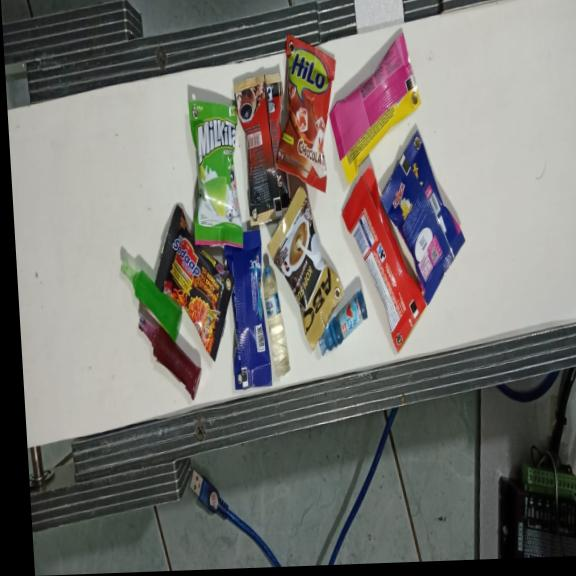Plastik: (375, 126, 468, 310), (339, 165, 428, 356), (324, 35, 425, 187), (150, 203, 238, 364), (264, 187, 346, 352), (267, 32, 343, 195), (232, 74, 294, 228), (185, 94, 244, 249), (221, 227, 272, 390), (136, 316, 202, 405), (120, 258, 183, 345), (314, 288, 369, 356), (262, 268, 290, 379)
